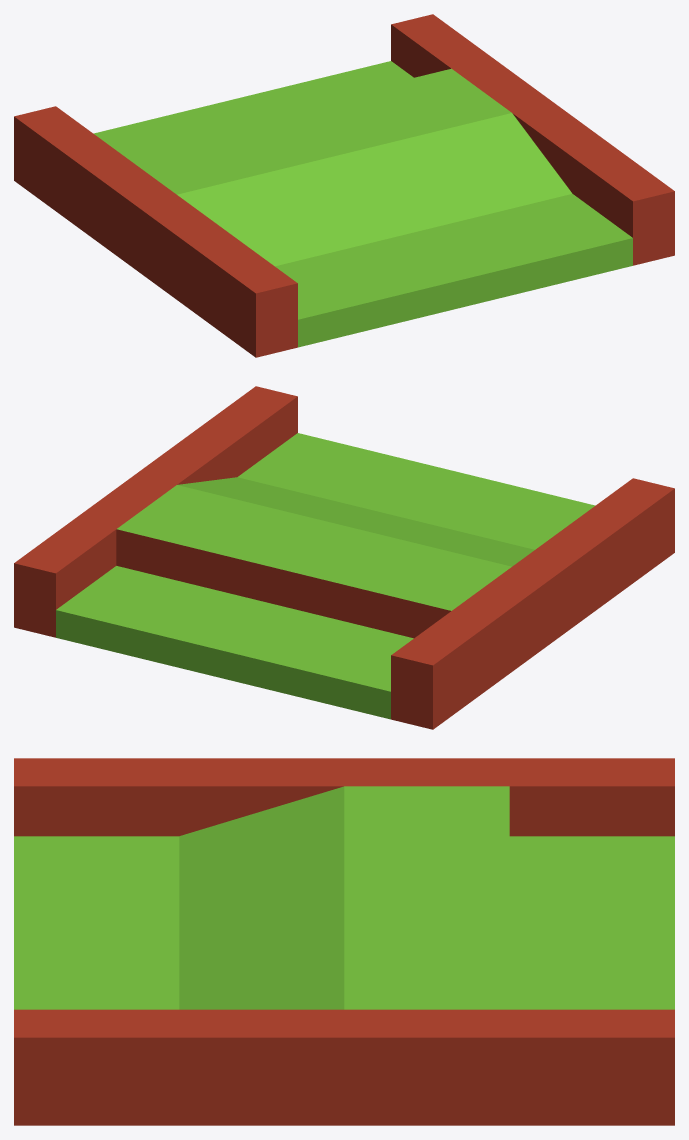
Rendered from Ramp_square_01.obj.
3 views of the same model, one above another, from view 1: azimuth 30°, elevation 25°; view 2: azimuth 150°, elevation 25°; view 3: azimuth 270°, elevation 25° (orthographic). The views are drawn at different scales.
Parts seen in each view (by area): view 1: Mesh1_Ramp_square_Model; view 2: Mesh1_Ramp_square_Model; view 3: Mesh1_Ramp_square_Model.
Part boxes in pixels (x1,y1,x2,y2): Mesh1_Ramp_square_Model: (14,14,674,357); Mesh1_Ramp_square_Model: (14,386,674,729); Mesh1_Ramp_square_Model: (14,758,674,1125).
Size of the model in its own units: 3 by 0.44 by 3.
